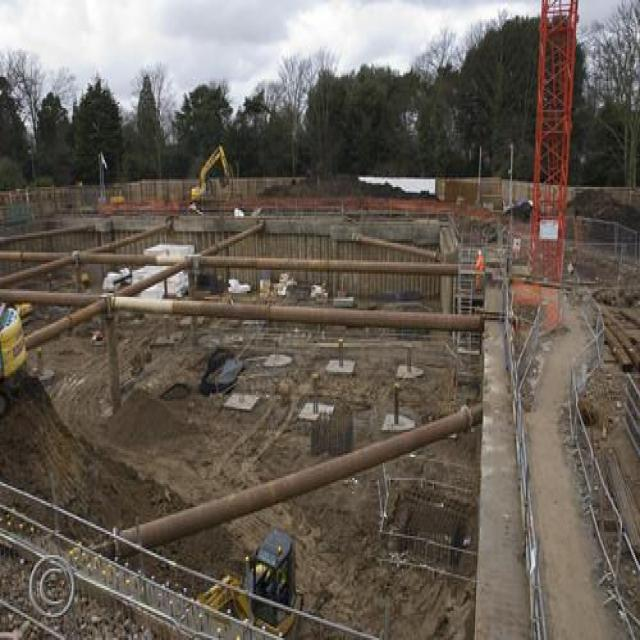Casco de seguridad: (478, 250, 482, 255)
Chaleco de seguridad: (475, 249, 485, 294), (478, 256, 484, 271)
Excavadora: (192, 526, 305, 638), (0, 302, 29, 414), (192, 144, 232, 204)
pala cargadora: (110, 183, 125, 206)
